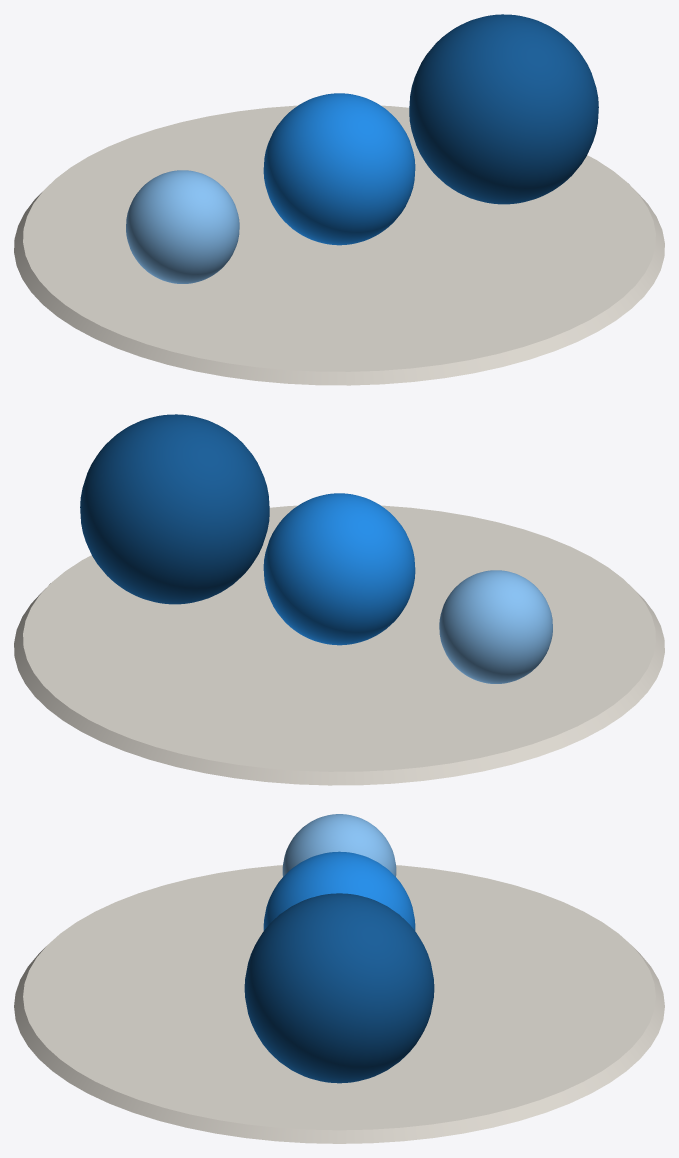
Rendered from blue.glb.
3 views of the same model, one above another, from view 1: azimuth 30°, elevation 25°; view 2: azimuth 150°, elevation 25°; view 3: azimuth 270°, elevation 25° (orthographic).
Parts seen in each view (by area): view 1: base, dark, normal, light; view 2: base, dark, normal, light; view 3: base, dark, normal, light.
Boxes of the visible parts, x1,y1,x2,y2 form: base: [14, 105, 664, 385]; dark: [409, 14, 598, 204]; normal: [263, 93, 415, 245]; light: [126, 170, 239, 283]; base: [14, 505, 664, 785]; dark: [80, 414, 269, 604]; normal: [263, 493, 415, 645]; light: [439, 570, 552, 683]; base: [14, 865, 664, 1143]; dark: [244, 893, 434, 1083]; normal: [263, 851, 415, 930]; light: [282, 814, 396, 876].
Bounding box in the file's own units: 3.6 × 1.12 × 3.6.
